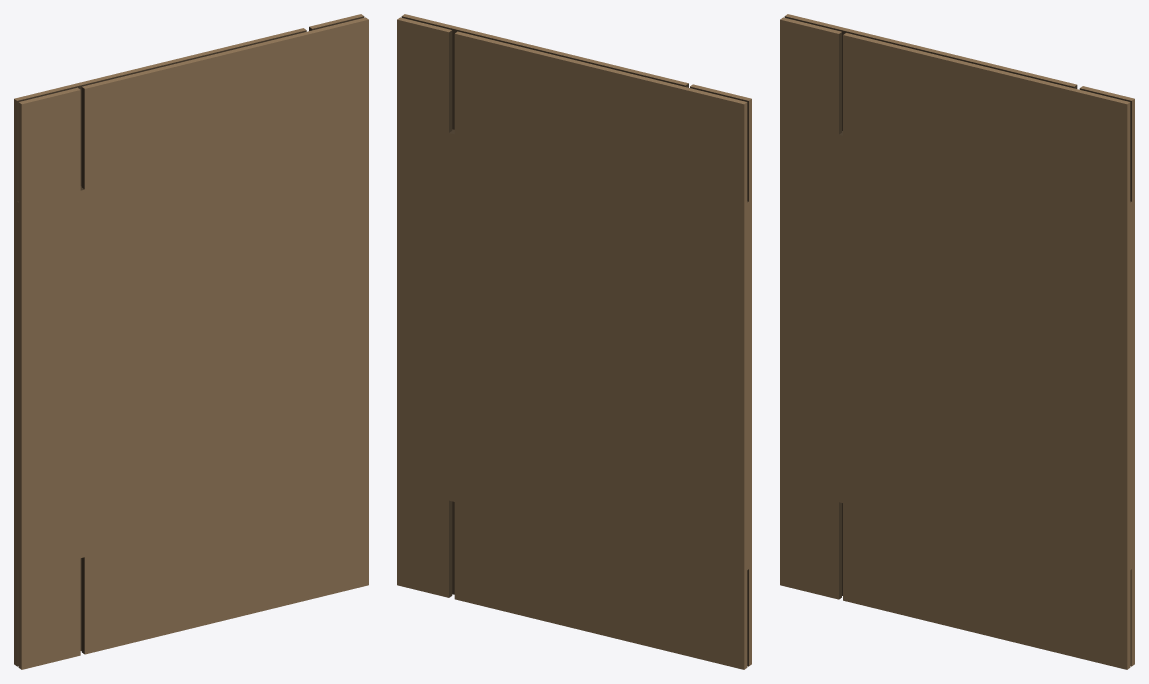
File: S.FoldedBox.fbx
3 renders of one model, left to right at view 1: azimuth 30°, elevation 25°; view 2: azimuth 150°, elevation 25°; view 3: azimuth 330°, elevation 25°, orthographic.
Parts seen in each view (by area): view 1: Folded Box; view 2: Folded Box; view 3: Folded Box.
Part boxes in pixels (x1,y1,x2,y2): Folded Box: [14, 14, 368, 669]; Folded Box: [397, 14, 751, 669]; Folded Box: [780, 14, 1134, 669].
Size of the model in its own units: 143 by 223 by 5.51.
